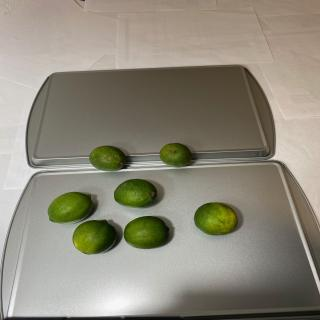Lemon: (72, 220, 117, 254), (124, 216, 170, 249), (47, 192, 93, 224), (194, 202, 238, 235), (89, 145, 126, 172), (160, 142, 192, 168)
